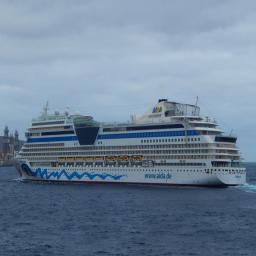cruises: (14, 95, 249, 193)
